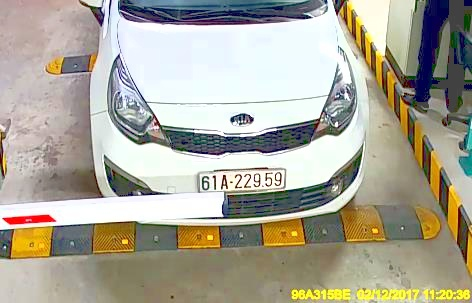plate: (201, 168, 283, 189)
